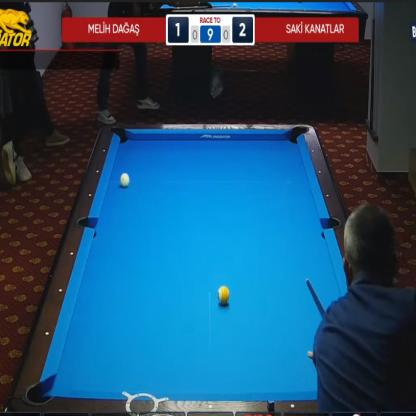Ball: (217, 285, 230, 305), (120, 173, 130, 187)
